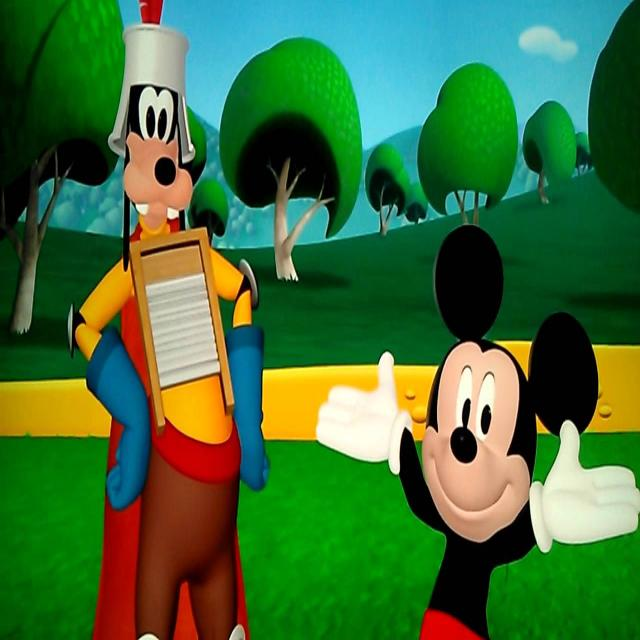mickey: (378, 227, 612, 567)
